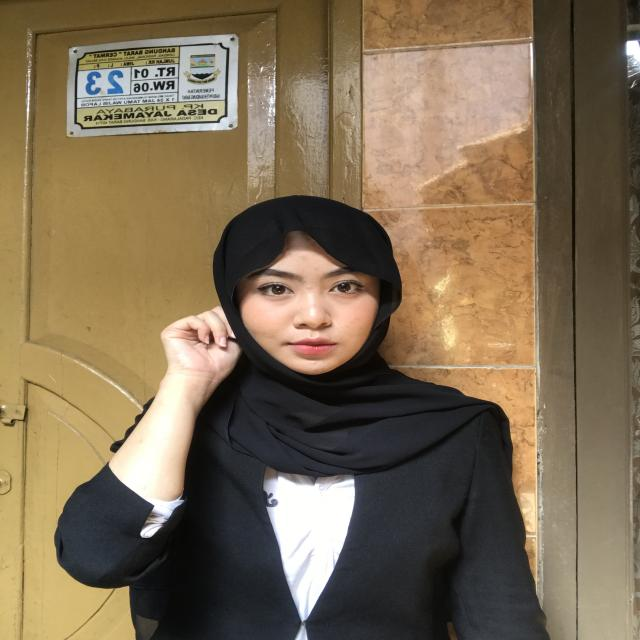ibu: (116, 298, 273, 423)
